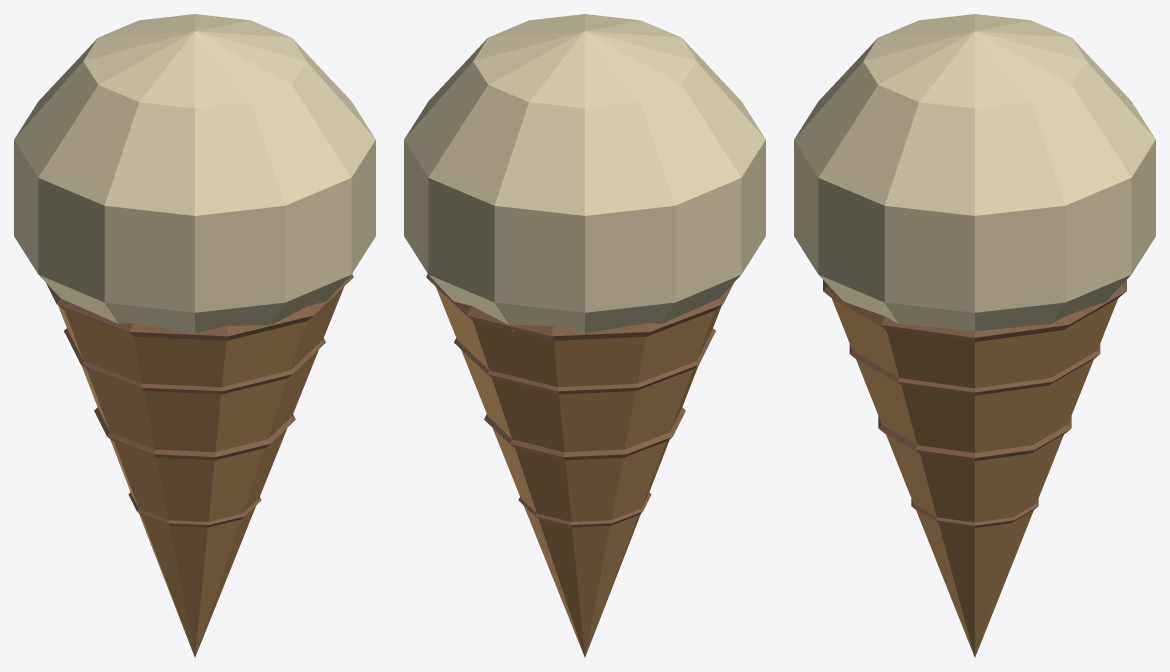
The model's file is b16_waffle_ice_cream_cone.glb.
3 views of the same model, side by side, from view 1: azimuth 30°, elevation 25°; view 2: azimuth 150°, elevation 25°; view 3: azimuth 270°, elevation 25° (orthographic).
Visible parts, largest first — view 1: b16_waffle_ice_cream_cone; view 2: b16_waffle_ice_cream_cone; view 3: b16_waffle_ice_cream_cone.
Boxes of the visible parts, x1,y1,x2,y2 form: b16_waffle_ice_cream_cone: [14, 14, 375, 657]; b16_waffle_ice_cream_cone: [404, 14, 765, 657]; b16_waffle_ice_cream_cone: [794, 14, 1155, 657].
Size of the model in its own units: 0.0837 by 0.16 by 0.0837.
